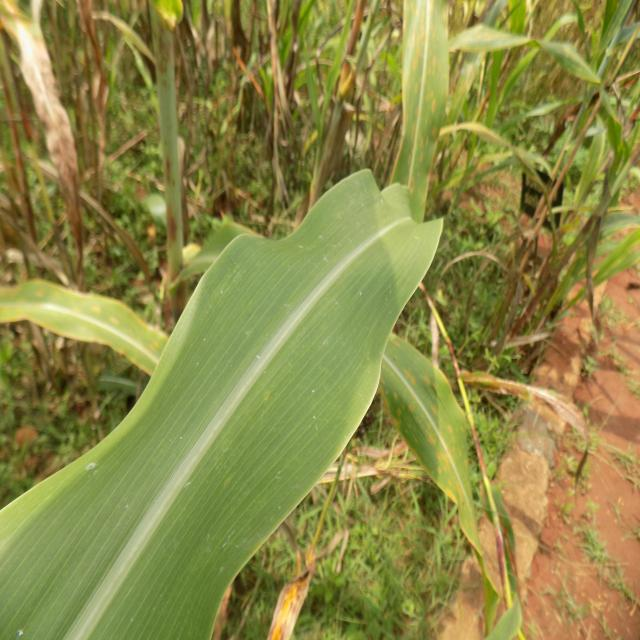millet_healthy: (0, 164, 449, 640)
